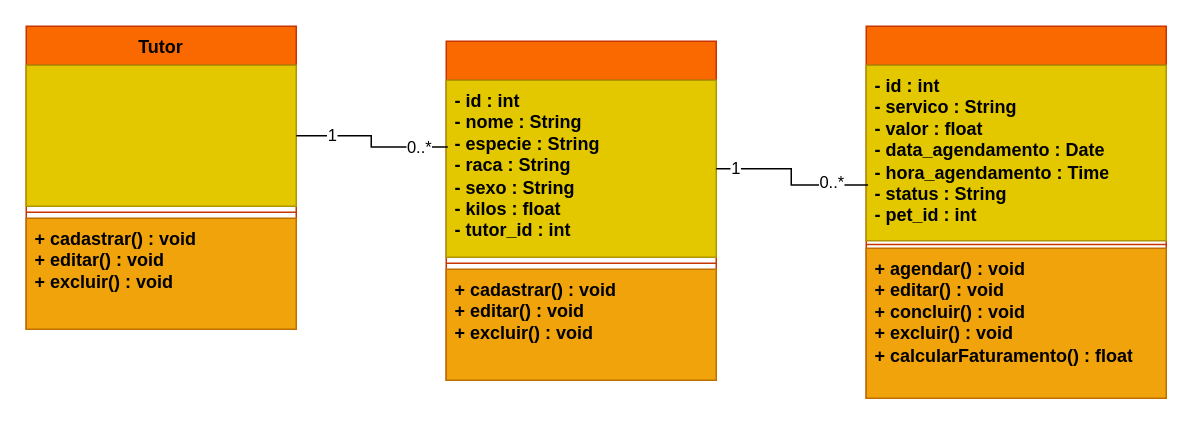
The diagram is 1193 pixels wide and 429 high, and some of its shapes have lost their labels. Each missing label, with the box of its shape:
- id : int - nome : String - cpf : String - telefone : String - email : String: (25, 64, 296, 206)
Agendamanto: (865, 25, 1166, 398)
Pet: (445, 40, 716, 380)
